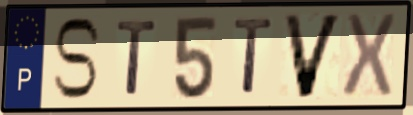5: (171, 13, 220, 102)
S: (49, 15, 103, 102)
T: (232, 16, 276, 98), (114, 18, 159, 98)
V: (280, 12, 346, 102)
X: (339, 11, 398, 101)
